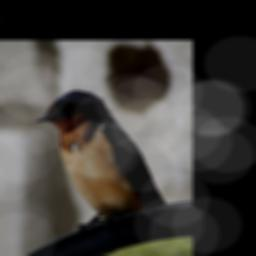Swallow: (34, 89, 169, 237)
